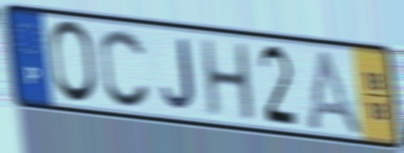2: (257, 43, 301, 129)
A: (302, 47, 368, 140)
C: (98, 26, 153, 111)
H: (198, 37, 258, 124)
J: (159, 37, 198, 113)
O: (48, 17, 100, 107)
